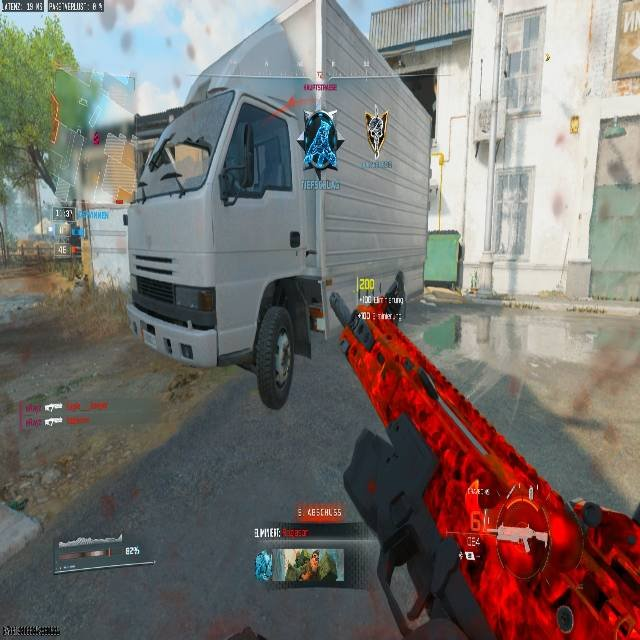player: (301, 106, 340, 176)
